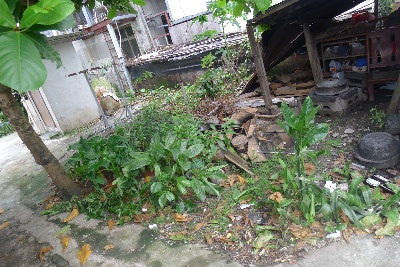bottle: (362, 175, 395, 196)
bowl: (353, 131, 399, 160), (350, 151, 400, 171)
